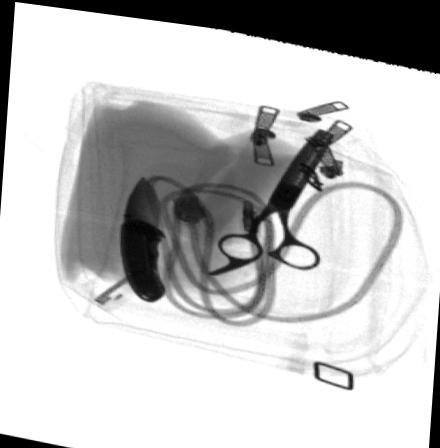Knife: (121, 171, 166, 299)
Scissors: (204, 118, 335, 270)
